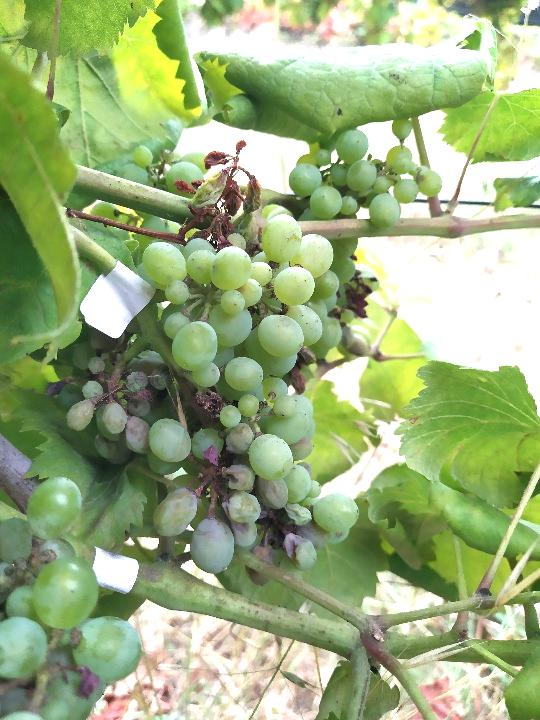grape: (64, 165, 366, 578)
